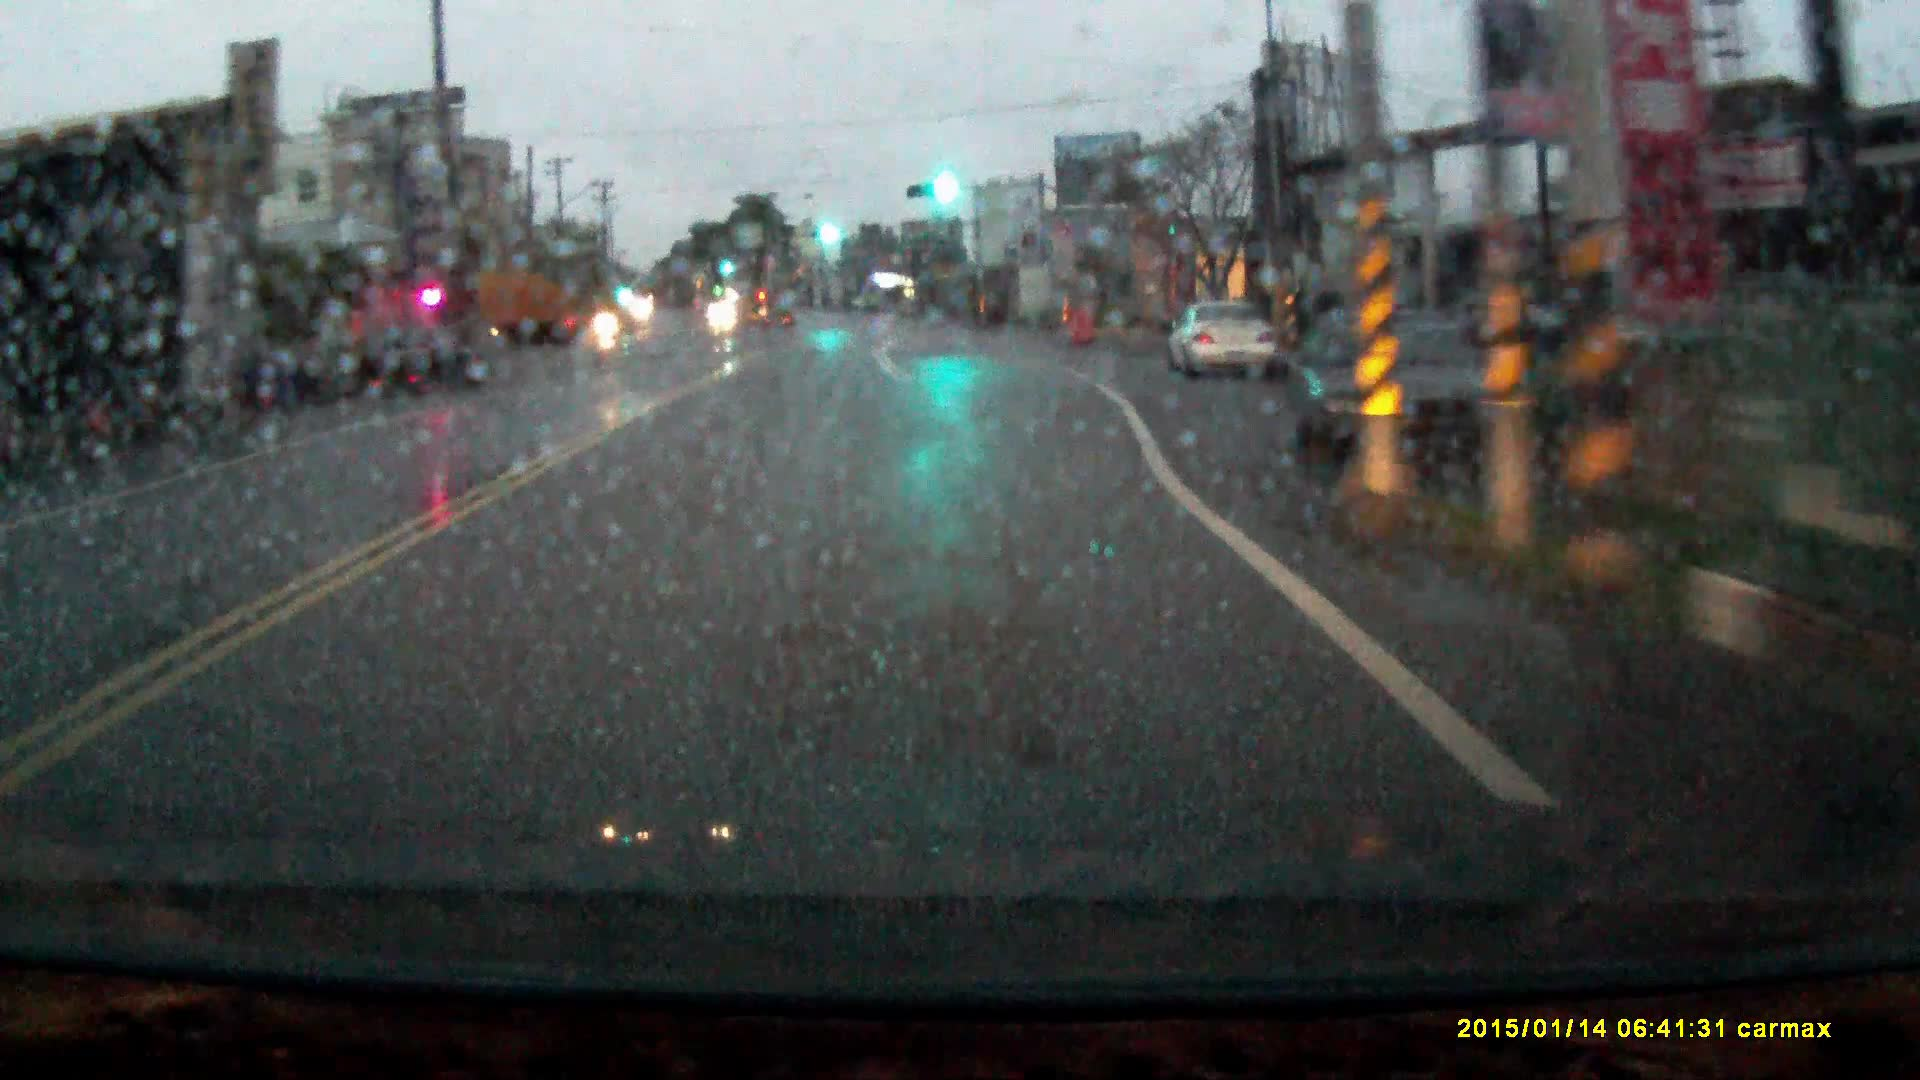rider: (589, 298, 625, 357)
vehicle: (1278, 312, 1515, 471), (1161, 288, 1279, 367), (476, 260, 579, 342), (359, 317, 471, 384), (709, 293, 737, 317)
